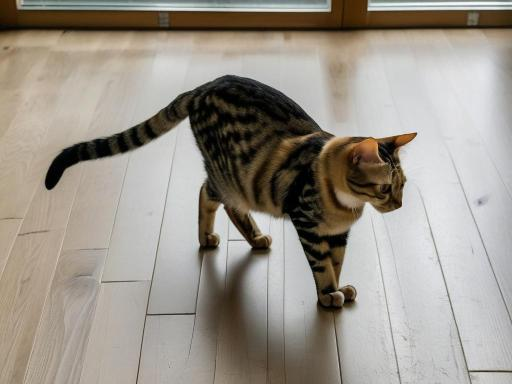cat_standing: (45, 75, 416, 308)
